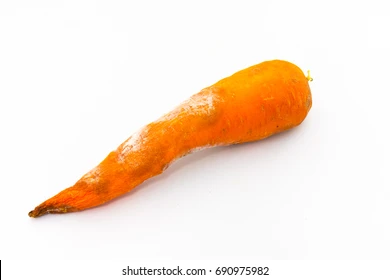rotten carrot: (22, 34, 332, 233)
